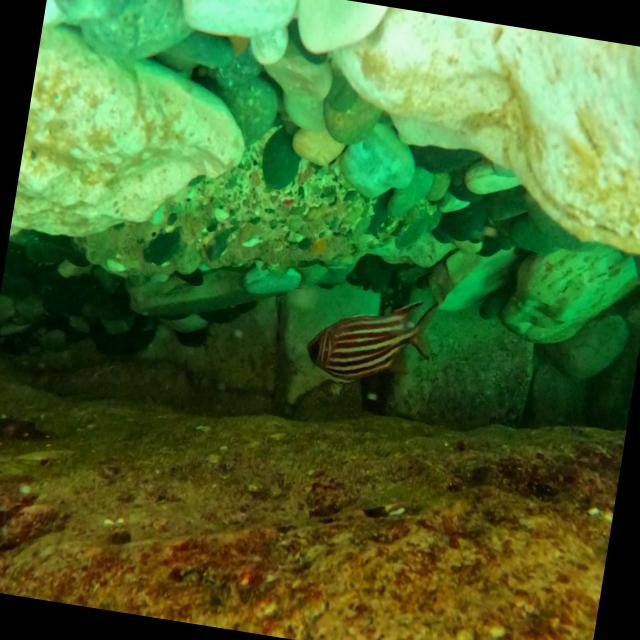Asker Baligi: (293, 261, 457, 406)
